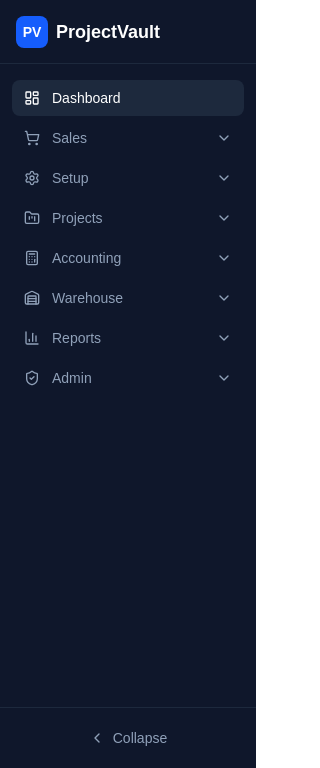
Test: Sidebar › collapse toggle works
Expected: the text "Collapse" is shown, top-left (113, 728), bottom-right (167, 748)
# Click collapse
Click the button "Collapse".
click(128, 738)  # box top-left (12, 720), bottom-right (244, 756)
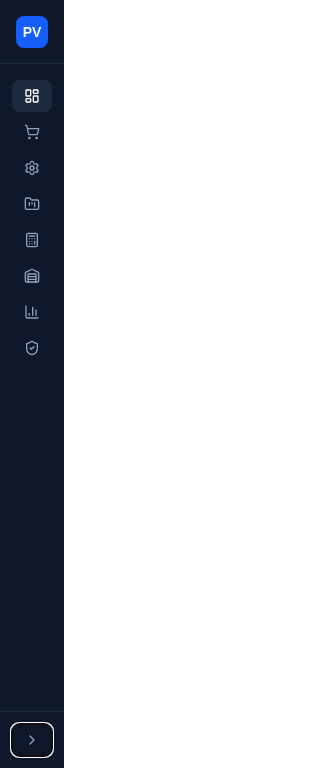
Expected: the link "ProjectVault" is gone
Expected: the text "Collapse" is gone
